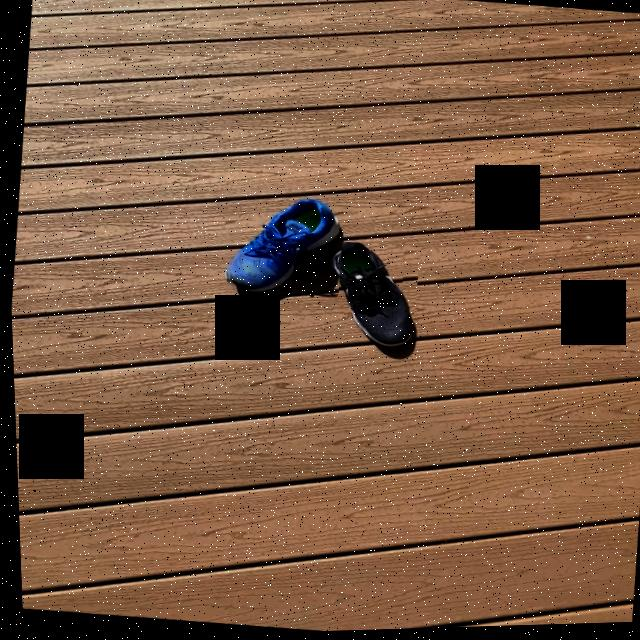shoe: (226, 201, 340, 301), (325, 244, 412, 333)
